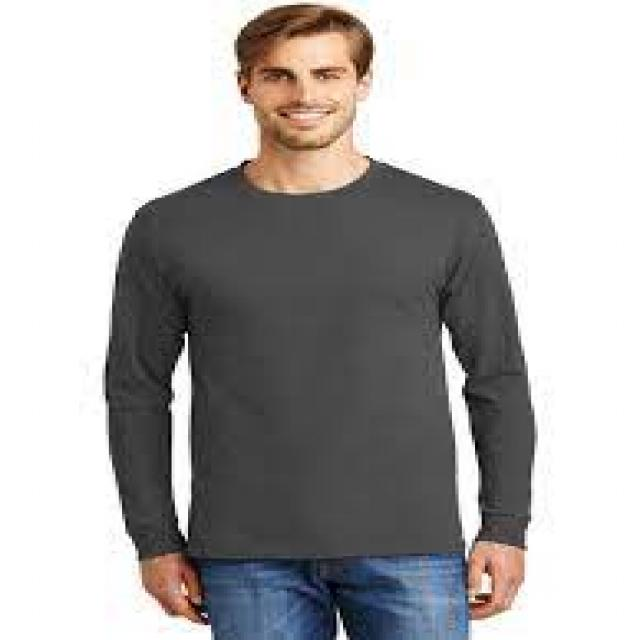plain: (117, 160, 536, 562)
